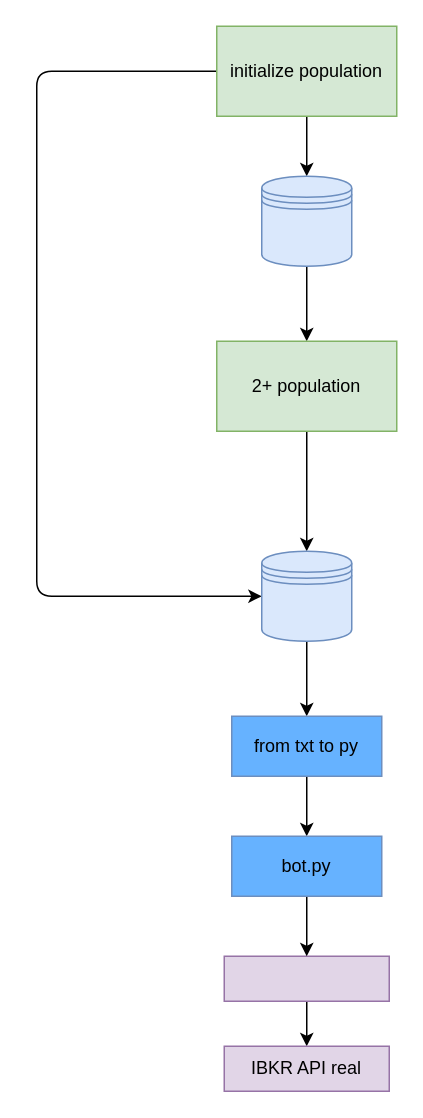
The diagram is 423 pixels wide and 1118 high, and some of its shapes have lost their labels. Here are the shapes that lost their labels. From the top down, the box of each, then its label:
(260, 175, 352, 266): init_db
(260, 550, 352, 641): best_db
(223, 955, 389, 1001): IBKR API demo
